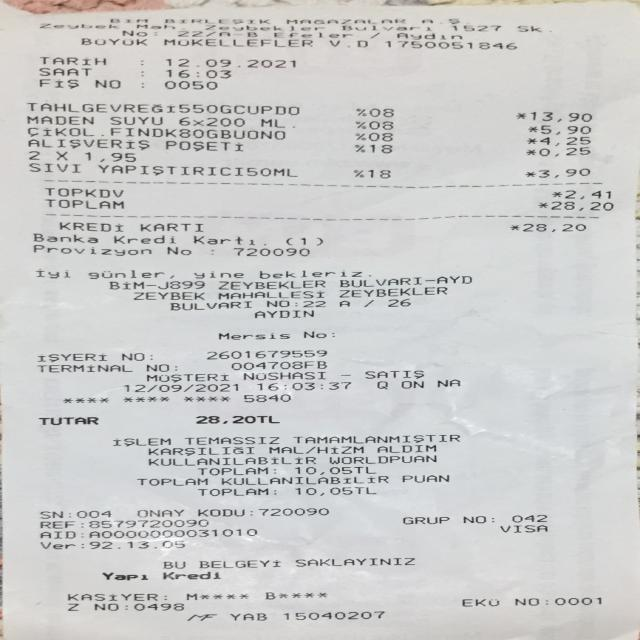text: (26, 125, 284, 139), (78, 101, 298, 115), (98, 163, 294, 177), (162, 36, 310, 48), (27, 136, 148, 150), (146, 456, 314, 466), (384, 38, 515, 50), (291, 434, 458, 443), (162, 57, 298, 68), (32, 244, 149, 256), (256, 267, 362, 280), (218, 476, 386, 484), (86, 529, 254, 537), (204, 349, 325, 359), (121, 382, 237, 392), (336, 287, 446, 297), (217, 278, 325, 288), (328, 454, 436, 464), (294, 557, 413, 566), (254, 380, 350, 391), (233, 245, 308, 258), (87, 519, 207, 527), (87, 539, 183, 549), (145, 446, 251, 455), (35, 363, 130, 373), (183, 435, 278, 445), (166, 138, 244, 150), (205, 23, 320, 31), (337, 276, 420, 287), (44, 186, 120, 198), (282, 610, 382, 619), (44, 198, 124, 209), (229, 360, 326, 369), (214, 290, 323, 298), (166, 67, 228, 81), (144, 372, 228, 382), (241, 370, 324, 380), (197, 558, 280, 568), (286, 17, 404, 24), (341, 23, 430, 32), (86, 269, 166, 279), (39, 54, 104, 66), (192, 234, 260, 245), (194, 415, 277, 424), (163, 17, 269, 24), (130, 291, 204, 301), (25, 114, 92, 125), (178, 116, 245, 127), (80, 36, 146, 47), (293, 465, 373, 474), (134, 477, 206, 487), (294, 486, 374, 495), (217, 330, 288, 340), (196, 466, 267, 476), (530, 110, 589, 122), (112, 233, 175, 244), (34, 232, 96, 243), (260, 506, 328, 516), (39, 22, 114, 31), (166, 301, 250, 309), (191, 267, 241, 280), (196, 487, 267, 496), (35, 353, 105, 362), (65, 590, 122, 601), (164, 78, 216, 90), (38, 66, 88, 78), (28, 101, 78, 113), (110, 114, 160, 126), (28, 162, 78, 174), (374, 443, 434, 453), (363, 369, 422, 379), (395, 31, 460, 40), (522, 222, 587, 231), (111, 436, 169, 446), (160, 570, 218, 580), (271, 31, 353, 38), (139, 222, 201, 231), (550, 201, 611, 210), (36, 416, 97, 425), (156, 279, 204, 290), (135, 507, 183, 518), (400, 473, 447, 484), (198, 507, 245, 518), (401, 514, 448, 525), (84, 152, 135, 162), (58, 222, 121, 230), (539, 124, 589, 134), (252, 310, 312, 318), (563, 190, 610, 200), (499, 523, 546, 533), (553, 596, 600, 606), (39, 77, 78, 89), (315, 444, 361, 454), (100, 570, 146, 580), (132, 601, 182, 610), (535, 169, 590, 177), (242, 393, 289, 402), (538, 136, 589, 144), (537, 147, 588, 155), (434, 275, 471, 286), (450, 24, 500, 32), (459, 597, 499, 607), (284, 236, 323, 246), (32, 268, 71, 278), (105, 280, 144, 290), (74, 508, 109, 519), (328, 38, 366, 48), (132, 22, 172, 31), (38, 519, 74, 529), (38, 530, 74, 540), (38, 540, 74, 550), (510, 513, 546, 523), (122, 590, 154, 601), (229, 611, 264, 621), (267, 444, 301, 454), (422, 16, 461, 24), (186, 611, 215, 621), (166, 245, 190, 257), (398, 378, 422, 390), (93, 78, 118, 89), (434, 378, 459, 389), (301, 328, 325, 339), (161, 558, 183, 570), (258, 118, 284, 128), (38, 508, 61, 519), (461, 513, 484, 524), (106, 17, 148, 23), (367, 143, 392, 153), (92, 602, 117, 612), (122, 28, 146, 38), (368, 106, 392, 116), (265, 299, 289, 309), (300, 298, 324, 308), (144, 362, 168, 372), (178, 29, 204, 38), (385, 297, 408, 307), (120, 351, 142, 361), (368, 168, 389, 178), (513, 598, 539, 606), (368, 131, 391, 140), (367, 120, 392, 128), (517, 24, 538, 33), (366, 267, 377, 280), (144, 279, 155, 291), (376, 379, 388, 390), (206, 31, 231, 36), (423, 275, 434, 286), (54, 149, 64, 161), (525, 124, 536, 134), (338, 298, 349, 308), (340, 369, 350, 380), (304, 444, 314, 455), (160, 590, 170, 601), (184, 590, 194, 601), (523, 148, 535, 157), (523, 169, 535, 178), (362, 298, 374, 307), (353, 143, 363, 153), (352, 168, 362, 178), (524, 136, 535, 145), (248, 506, 257, 517), (28, 148, 36, 160), (354, 107, 364, 116), (354, 131, 364, 140), (551, 190, 560, 200), (508, 222, 518, 231), (263, 590, 272, 600), (67, 602, 76, 612), (537, 201, 546, 210), (369, 30, 377, 40), (356, 120, 365, 128), (517, 110, 524, 120), (138, 80, 144, 88), (250, 29, 255, 38), (489, 513, 493, 524), (292, 298, 296, 308), (148, 350, 151, 362), (271, 486, 274, 496), (174, 361, 176, 372), (78, 529, 80, 539), (124, 602, 126, 612), (78, 519, 80, 528), (79, 540, 81, 549), (210, 245, 211, 257), (68, 507, 69, 519), (272, 465, 273, 476)
